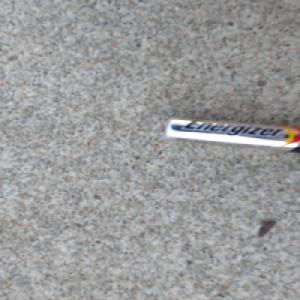Battery: (163, 116, 300, 154)
